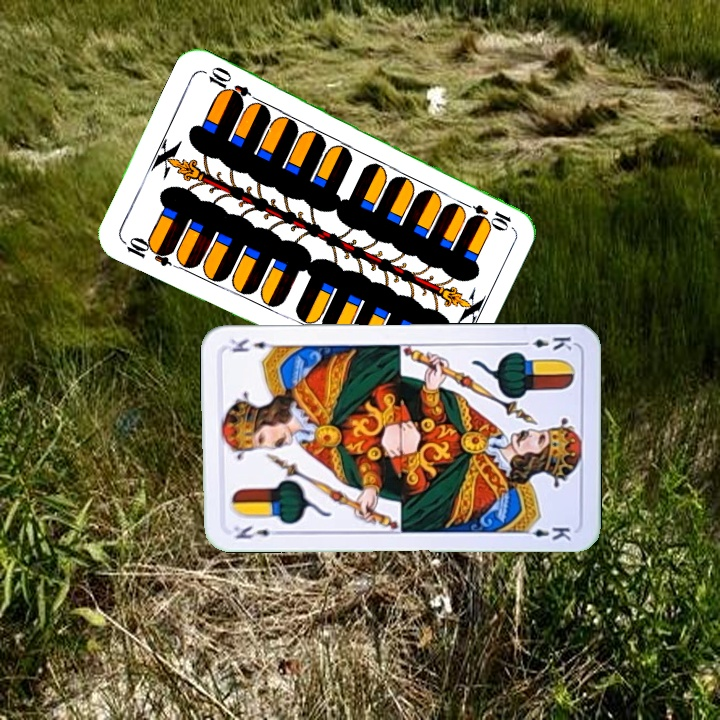E10: (118, 232, 176, 269), (456, 197, 514, 231)
EK: (515, 332, 574, 353), (230, 522, 285, 542)
